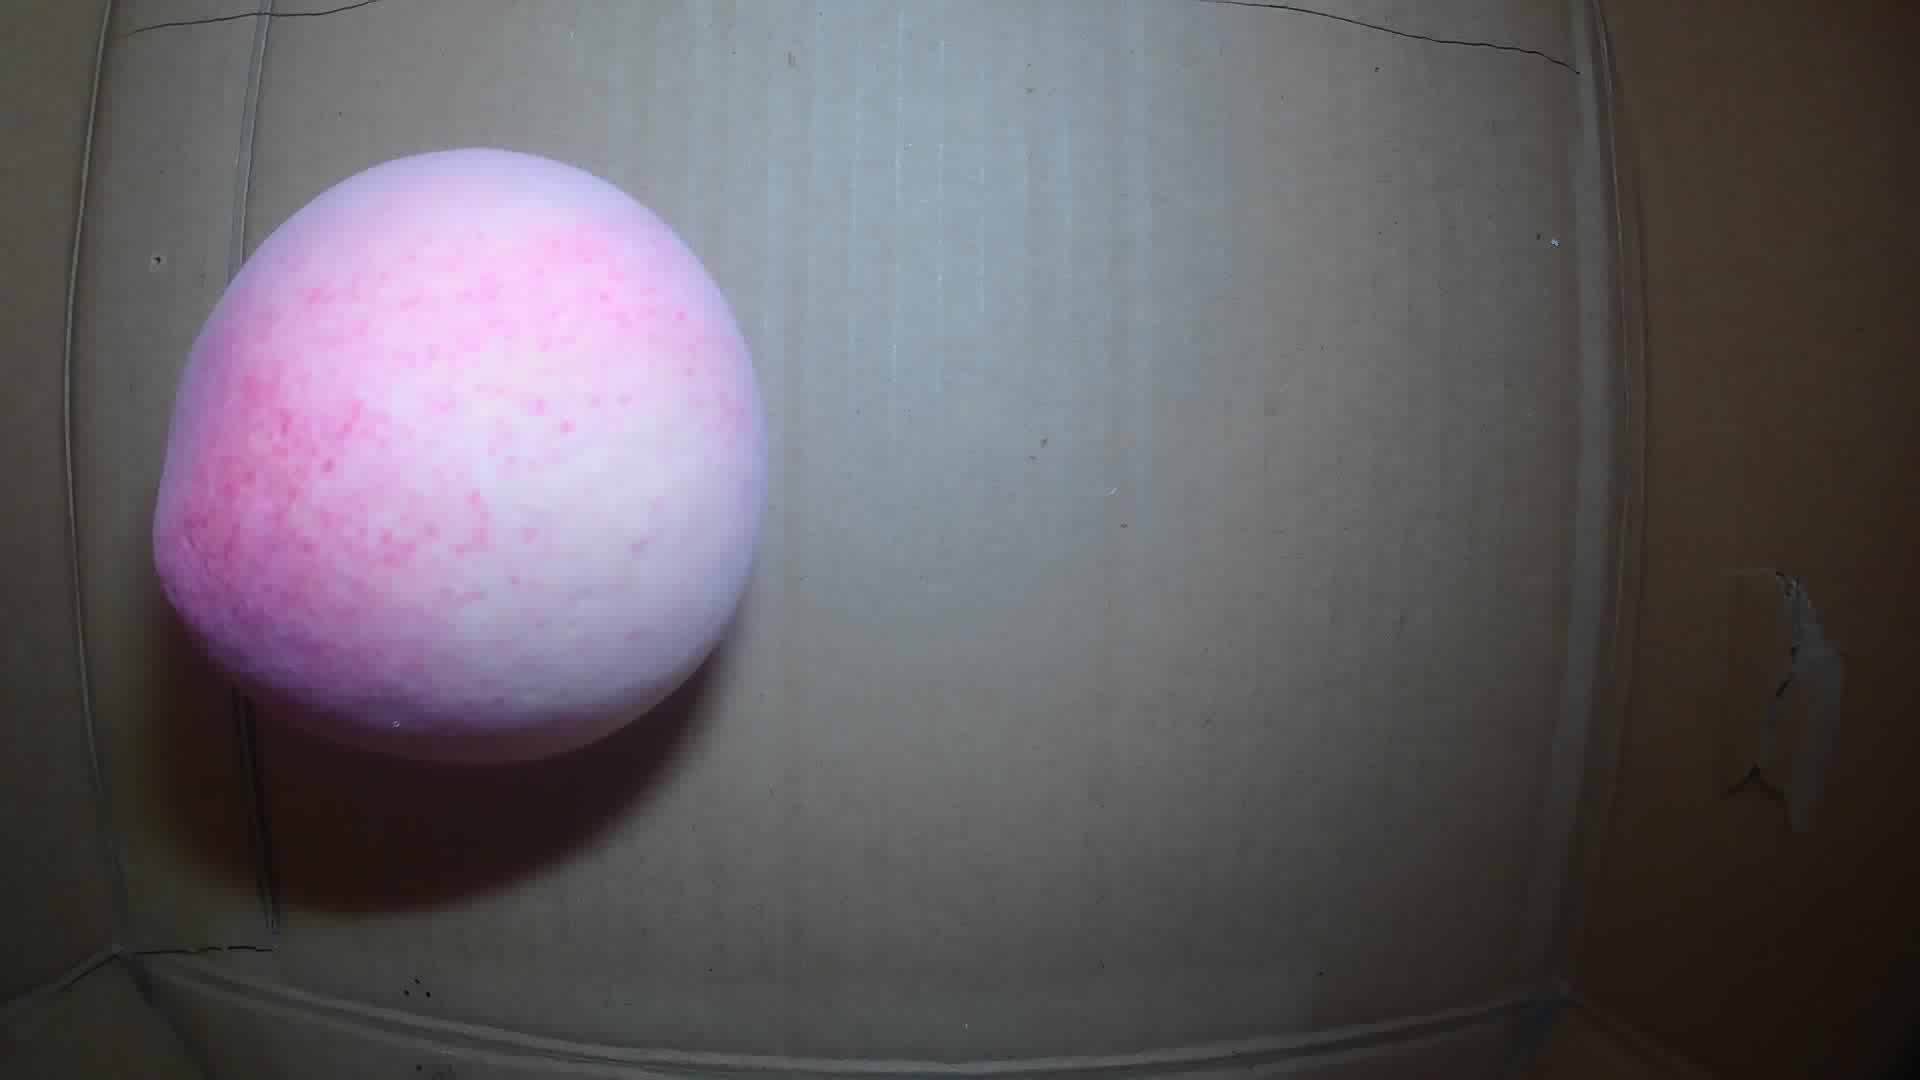peach: (146, 146, 770, 765)
